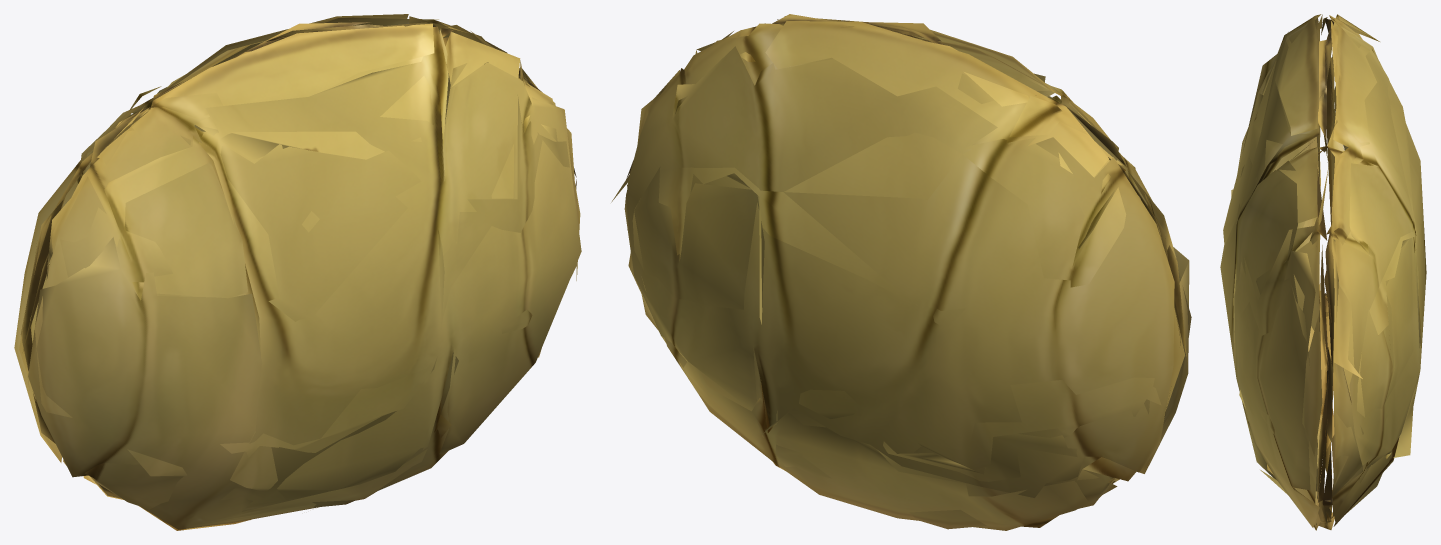
The model's file is A1-vine_seed-runtime.glb.
3 renders of one model, left to right at view 1: azimuth 30°, elevation 25°; view 2: azimuth 150°, elevation 25°; view 3: azimuth 270°, elevation 25°, orthographic. The views are drawn at different scales.
Parts seen in each view (by area): view 1: world; view 2: world; view 3: world.
Boxes of the visible parts, box(x1,y1,x2,y2) form: world: box(14, 14, 581, 530); world: box(611, 14, 1191, 530); world: box(1220, 14, 1426, 530).
Bounding box in the file's own units: 0.0222 × 0.0187 × 0.00782.
1 material, 1 textured.
